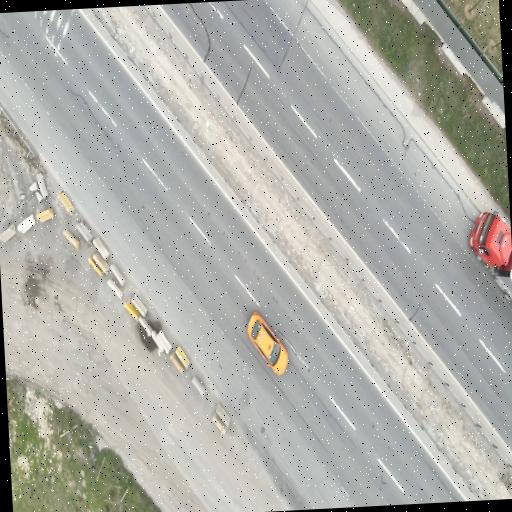car: (247, 311, 287, 374)
truck: (468, 210, 511, 300)
